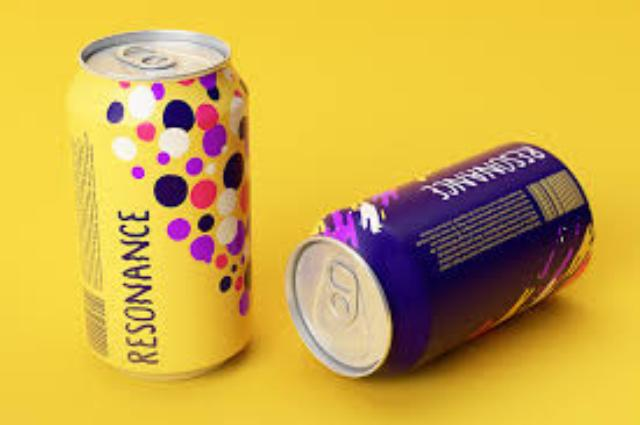metal: (284, 142, 589, 372), (67, 30, 249, 372)
